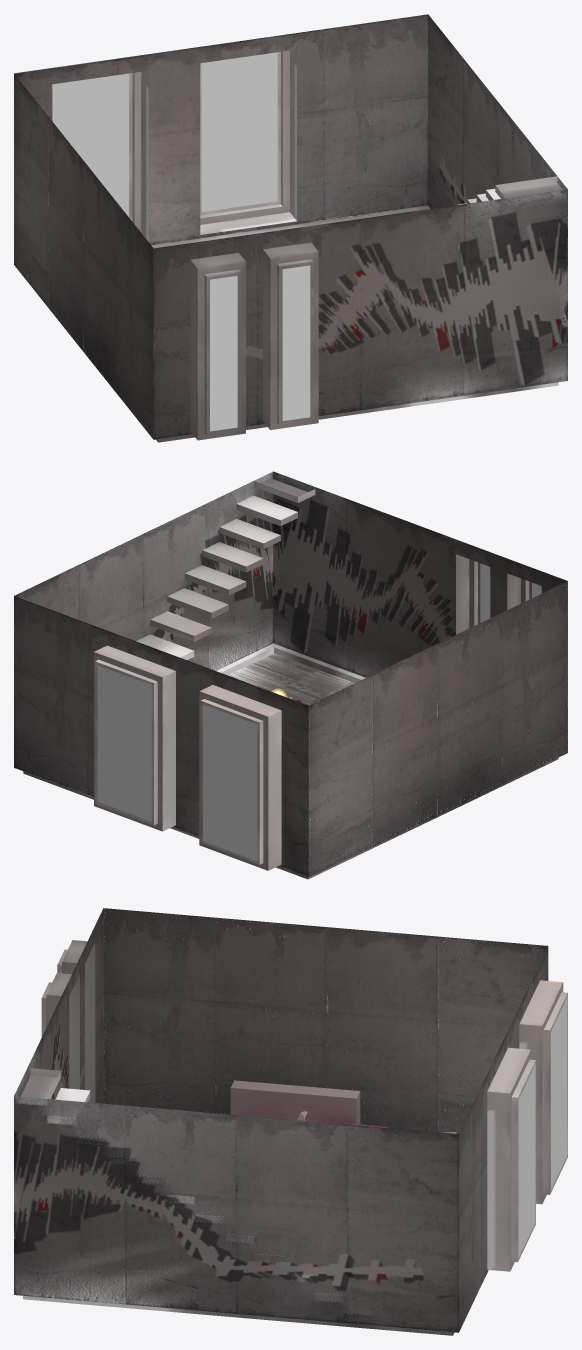
The model's file is telephone_s1.fbx.
The picture shows the model from 3 angles, top to bottom: view 1: azimuth 30°, elevation 25°; view 2: azimuth 150°, elevation 25°; view 3: azimuth 270°, elevation 25°; orthographic projection. The views are drawn at different scales.
Parts seen in each view (by area): view 1: TELEPHONE_S01_final:Wall1, TELEPHONE_S01_final:wall3, TELEPHONE_S01_final:winlist, TELEPHONE_S01_final:trapper; view 2: TELEPHONE_S01_final:wall3, TELEPHONE_S01_final:Wall1, TELEPHONE_S01_final:winlist, TELEPHONE_S01_final:trapper, TELEPHONE_S01_final:golv1; view 3: TELEPHONE_S01_final:Wall1, TELEPHONE_S01_final:wall3, TELEPHONE_S01_final:winlist, TELEPHONE_S01_final:bedframe, TELEPHONE_S01_final:trapper.
Part boxes in pixels (left/top/right/bottom): TELEPHONE_S01_final:Wall1: left=153, top=15, right=567, bottom=439; TELEPHONE_S01_final:wall3: left=14, top=14, right=428, bottom=439; TELEPHONE_S01_final:winlist: left=52, top=49, right=558, bottom=442; TELEPHONE_S01_final:trapper: left=458, top=176, right=562, bottom=204; TELEPHONE_S01_final:wall3: left=14, top=581, right=567, bottom=877; TELEPHONE_S01_final:Wall1: left=14, top=471, right=567, bottom=677; TELEPHONE_S01_final:winlist: left=23, top=554, right=558, bottom=879; TELEPHONE_S01_final:trapper: left=136, top=478, right=315, bottom=659; TELEPHONE_S01_final:golv1: left=228, top=653, right=354, bottom=704; TELEPHONE_S01_final:Wall1: left=14, top=909, right=458, bottom=1332; TELEPHONE_S01_final:wall3: left=103, top=908, right=548, bottom=1331; TELEPHONE_S01_final:winlist: left=23, top=940, right=567, bottom=1335; TELEPHONE_S01_final:bedframe: left=230, top=1080, right=456, bottom=1133; TELEPHONE_S01_final:trapper: left=18, top=1068, right=373, bottom=1322.
Size of the model in its own units: 706 by 301 by 732.
10 materials, 10 textured.
